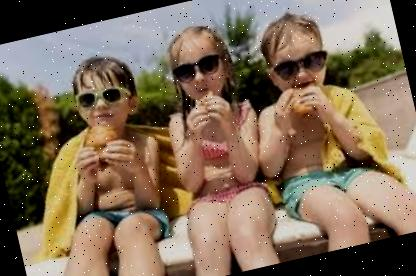person: (227, 0, 416, 262), (3, 44, 198, 276), (136, 11, 295, 276)
